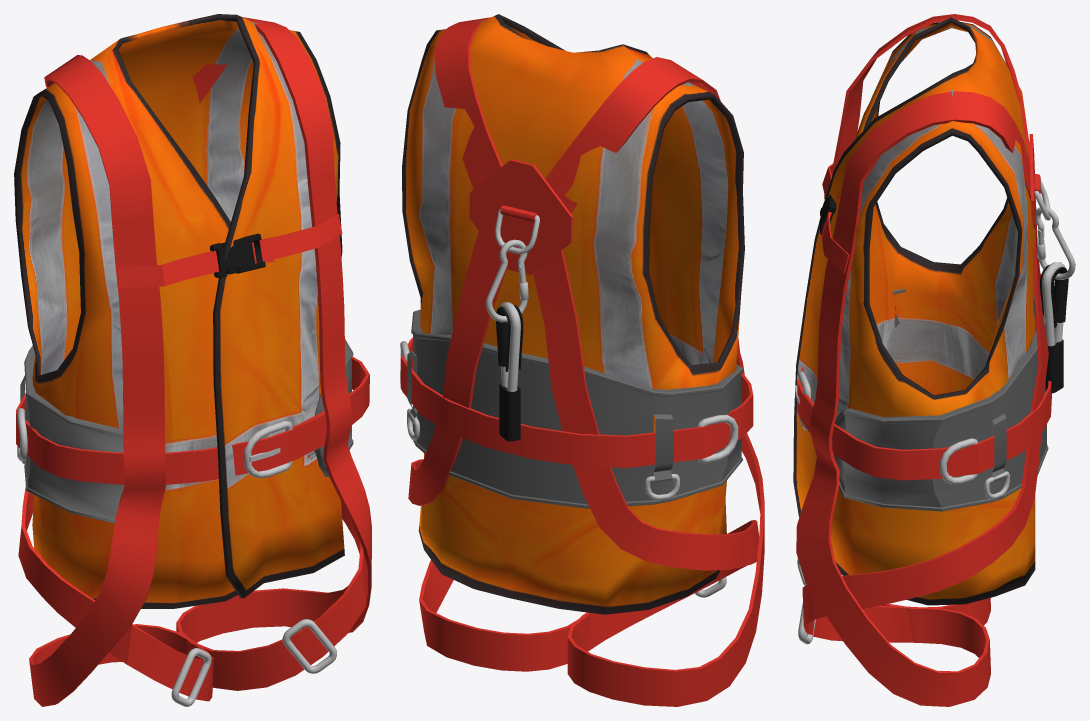
Rendered from VestInstalled.fbx.
The picture shows the model from 3 angles, left to right: view 1: azimuth 30°, elevation 25°; view 2: azimuth 150°, elevation 25°; view 3: azimuth 270°, elevation 25°; orthographic projection. The views are drawn at different scales.
Parts seen in each view (by area): view 1: M_vest, SafetyBelts, SafetyBelts.001, MinorRings, Union, FrontHook; view 2: M_vest, SafetyBelts, SafetyBelts.001, BackConnection.001, MinorRings, BackHook, BackConnection; view 3: M_vest, SafetyBelts, SafetyBelts.001, BackConnection.001, MinorRings, BackHook, BackConnection.
Boxes of the visible parts, left/top/right/bottom form: M_vest: left=14, top=14, right=344, bottom=608; SafetyBelts: left=16, top=17, right=371, bottom=706; SafetyBelts.001: left=20, top=339, right=353, bottom=523; MinorRings: left=17, top=408, right=336, bottom=706; Union: left=210, top=233, right=265, bottom=277; FrontHook: left=244, top=421, right=292, bottom=478; M_vest: left=402, top=14, right=744, bottom=614; SafetyBelts: left=400, top=17, right=764, bottom=706; SafetyBelts.001: left=407, top=309, right=742, bottom=508; BackConnection.001: left=496, top=304, right=523, bottom=441; MinorRings: left=400, top=341, right=738, bottom=597; BackHook: left=485, top=239, right=528, bottom=322; BackConnection: left=500, top=302, right=520, bottom=392; M_vest: left=793, top=17, right=1035, bottom=605; SafetyBelts: left=796, top=14, right=1051, bottom=706; SafetyBelts.001: left=834, top=289, right=1048, bottom=511; BackConnection.001: left=1040, top=264, right=1068, bottom=393; MinorRings: left=797, top=438, right=1009, bottom=644; BackHook: left=1035, top=207, right=1075, bottom=279; BackConnection: left=1042, top=262, right=1065, bottom=346.
Bounding box in the file's own units: 41.28 × 32.42 × 75.97.
